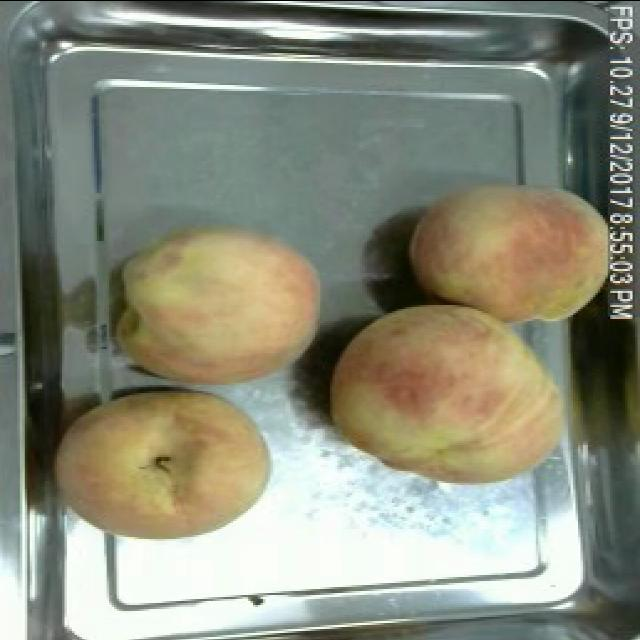Fruit: (320, 292, 578, 492), (42, 380, 278, 552), (109, 216, 335, 390), (402, 174, 628, 332)
